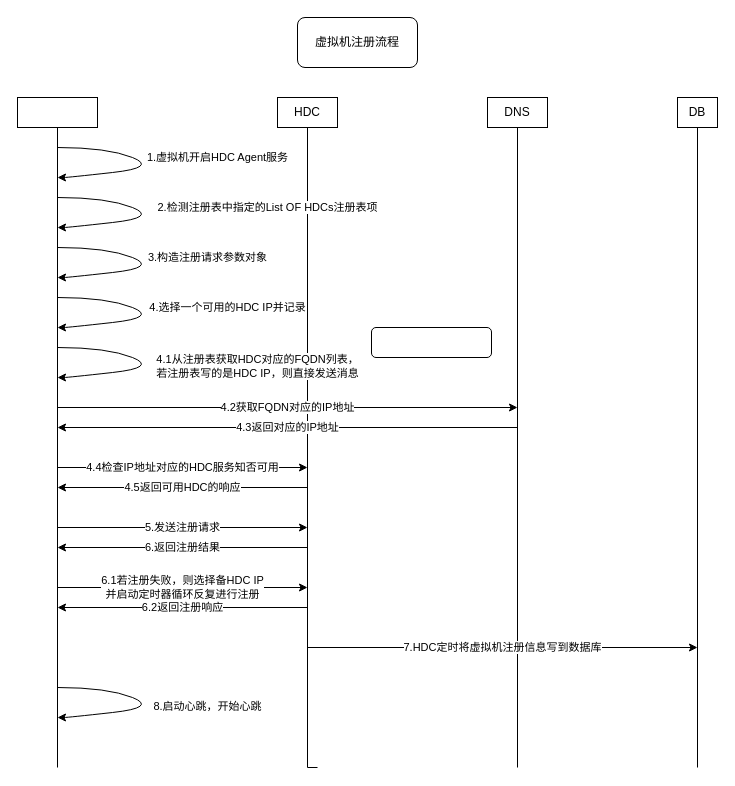
Some shapes in this 735 by 786 pixel diagram are drawn without their labels. Here are the shapes that lost their labels. From the top down, the centre of each, then its label:
(x=57, y=112): HDC Agent
(x=431, y=342): FQDN：全域名
